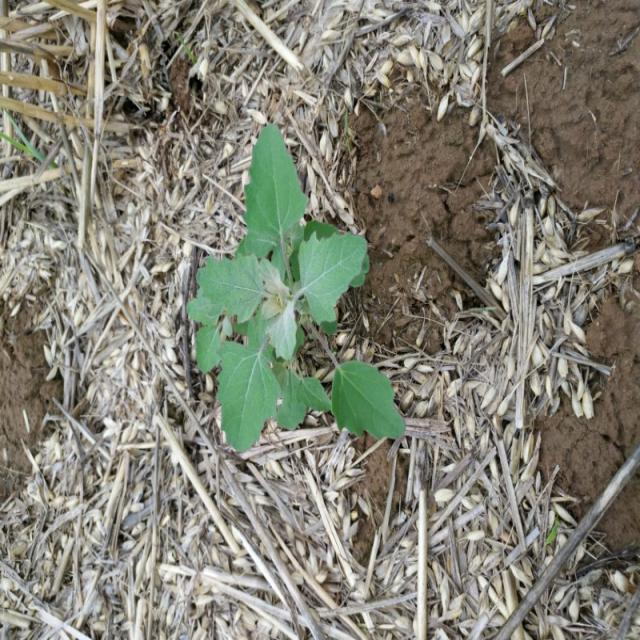goosefoots: (169, 133, 420, 462)
